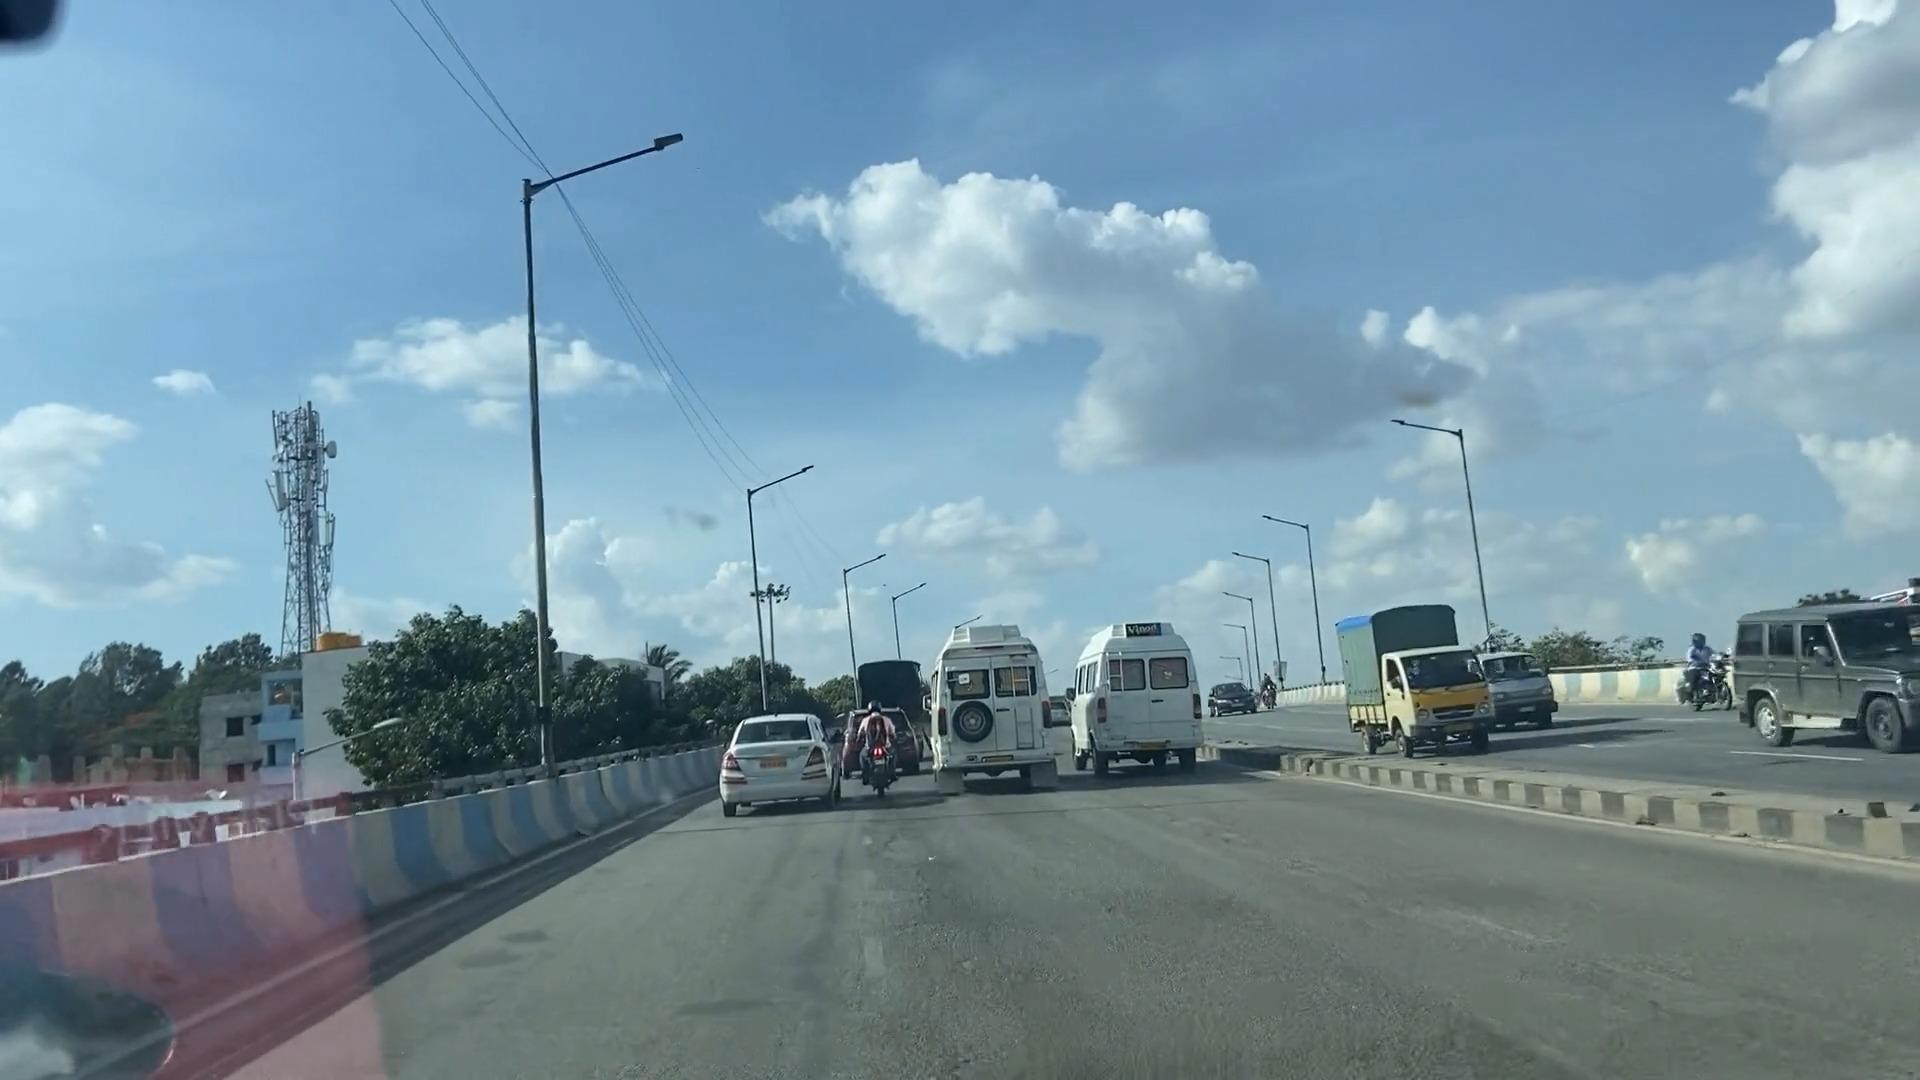HMV: (1060, 616, 1204, 787), (932, 622, 1067, 789)
LMV: (686, 700, 844, 826), (844, 704, 897, 791)
